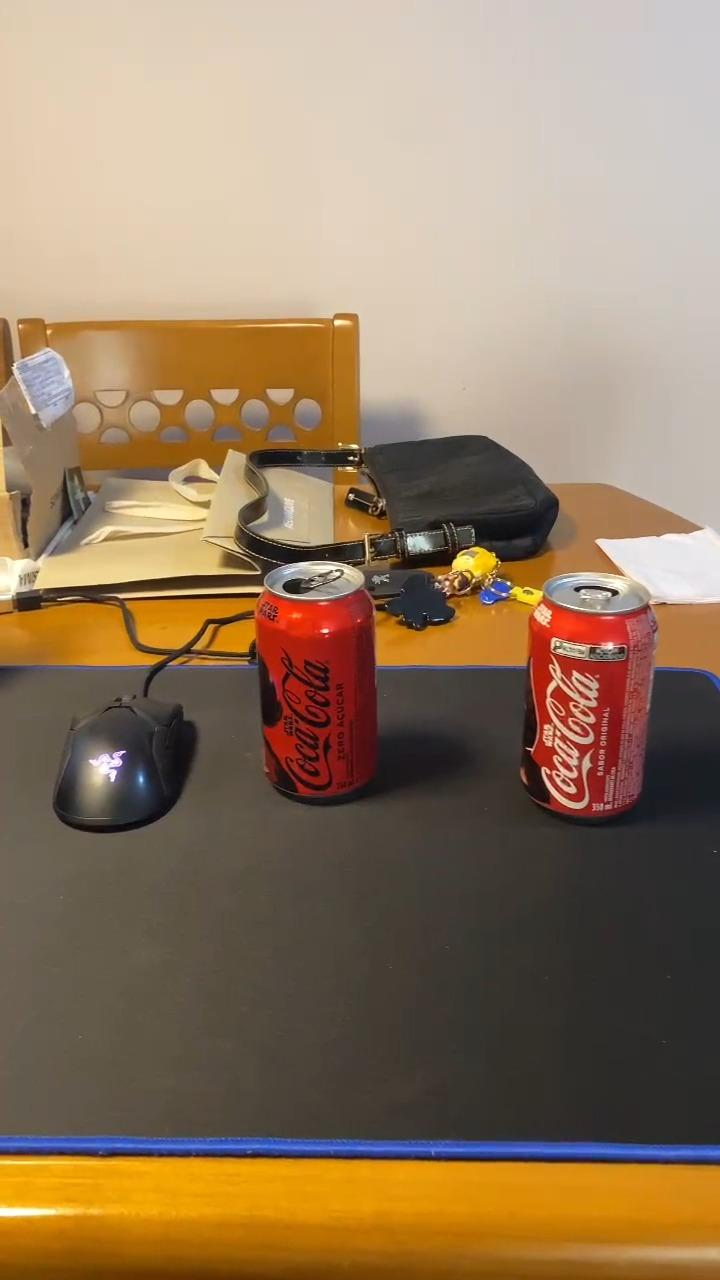coke: (520, 571, 658, 816), (253, 564, 380, 799)
